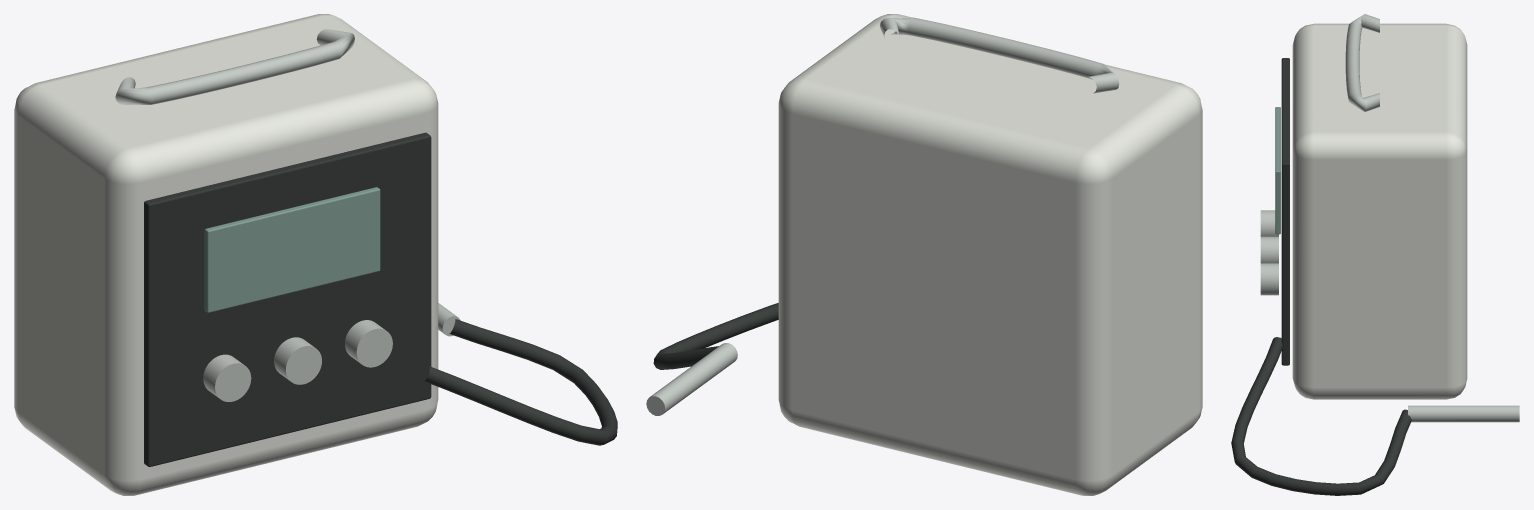
File: spacecraft-thermal-test-chamber-leak-test-instrument-7f7579f3__32051.glb
3 views of the same model, side by side, from view 1: azimuth 30°, elevation 25°; view 2: azimuth 150°, elevation 25°; view 3: azimuth 270°, elevation 25° (orthographic). The views are drawn at different scales.
Parts seen in each view (by area): view 1: leak-test-instrument; view 2: leak-test-instrument; view 3: leak-test-instrument.
Part boxes in pixels (box(x1,y1,x2,y2)): leak-test-instrument: box(14, 14, 617, 495); leak-test-instrument: box(646, 14, 1202, 495); leak-test-instrument: box(1231, 14, 1519, 495).
Bounding box in the file's own units: 0.6497 × 0.4943 × 0.4132.
